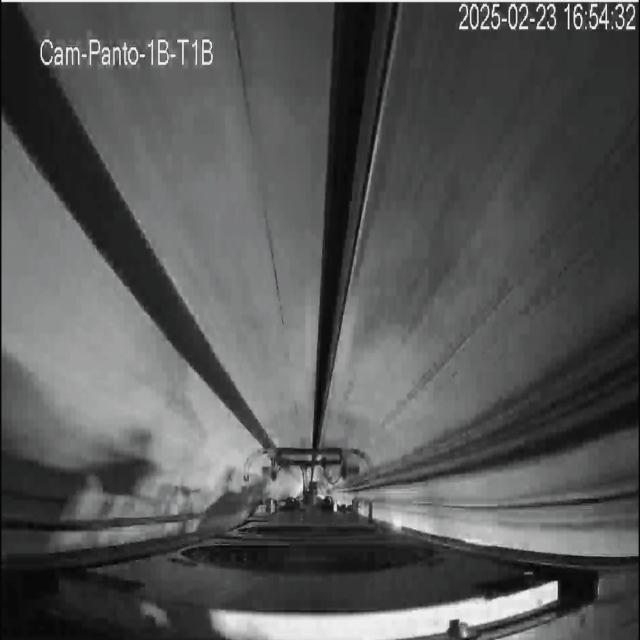Camera Stamp: (37, 29, 220, 71)
Date Stamp: (458, 3, 636, 33)
No - Spark: (145, 380, 334, 520), (238, 277, 365, 459)
